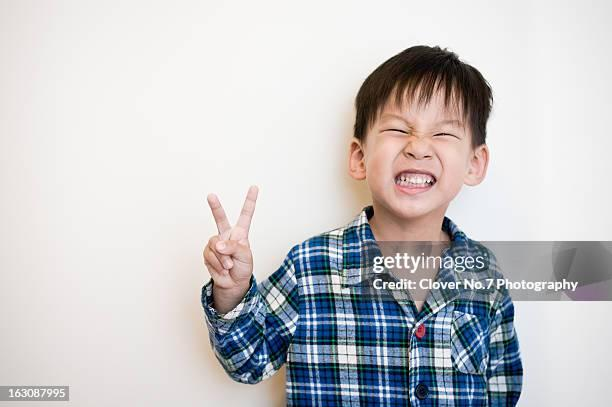peace_sign: (192, 182, 265, 297)
